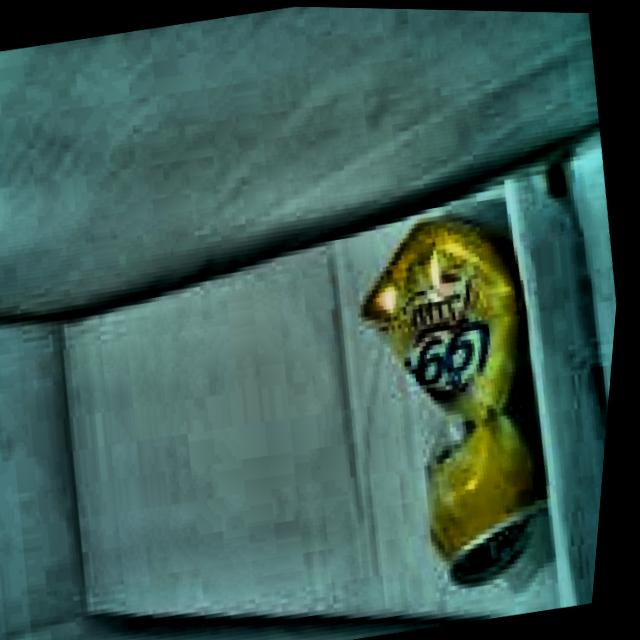Cans: (316, 164, 592, 619)
